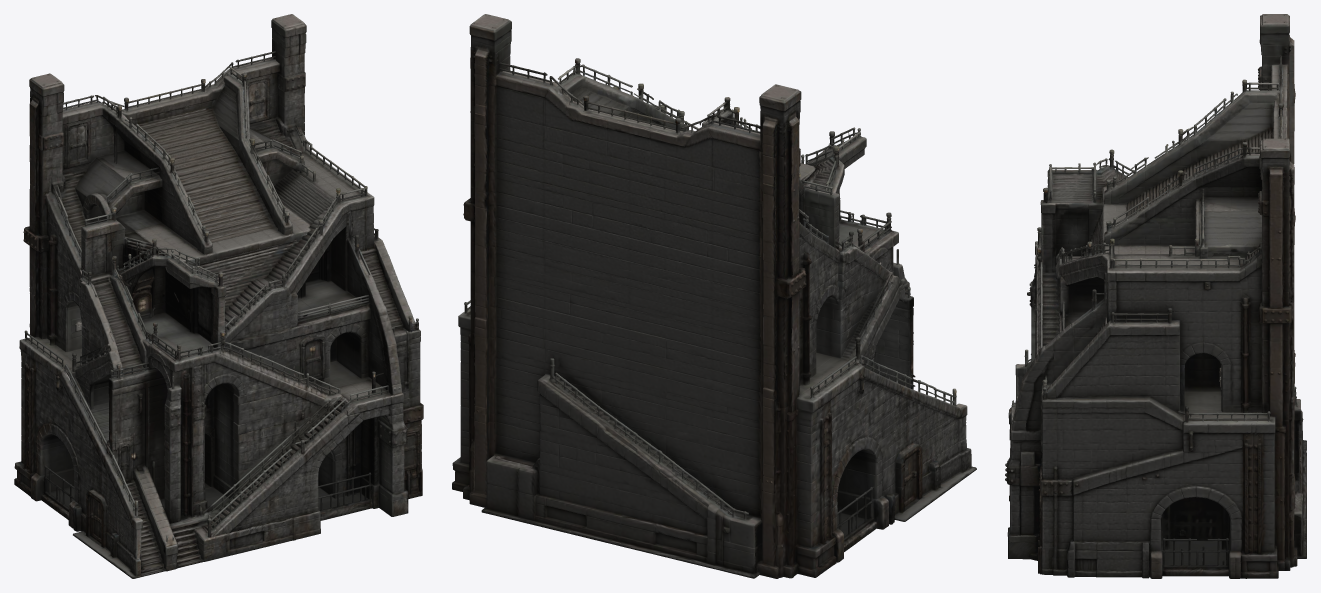
File: fortress_stairwell.glb
The picture shows the model from 3 angles, left to right: view 1: azimuth 30°, elevation 25°; view 2: azimuth 150°, elevation 25°; view 3: azimuth 270°, elevation 25°; orthographic projection. The views are drawn at different scales.
Bounding box in the file's own units: 0.8067 × 0.9799 × 0.6378.
1 material, 1 textured.
